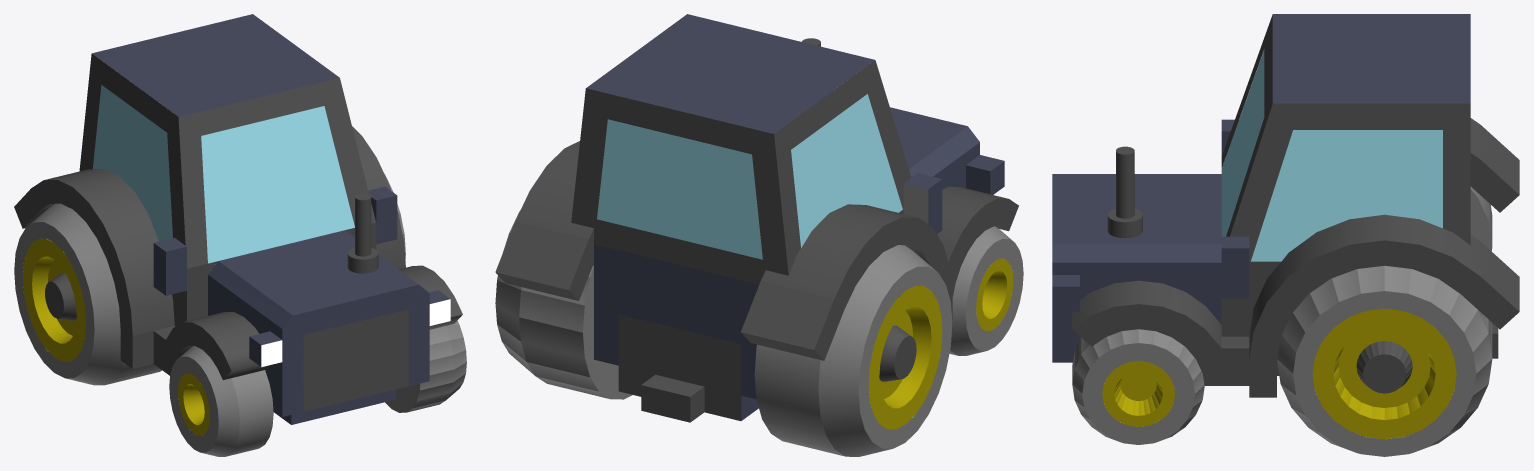
3 renders of one model, left to right at view 1: azimuth 30°, elevation 25°; view 2: azimuth 150°, elevation 25°; view 3: azimuth 270°, elevation 25°, orthographic. The views are drawn at different scales.
Visible parts, largest first — view 1: body.010, skirts, wheel_backRight.010, wheel_frontRight.010, wheel_frontLeft.010; view 2: body.010, skirts, wheel_backRight.010, wheel_backLeft.010, wheel_frontRight.010; view 3: body.010, wheel_backLeft.010, skirts, wheel_frontLeft.010, wheel_backRight.010.
Part boxes in pixels (x1,y1,x2,y2): body.010: [79, 14, 450, 424]; skirts: [14, 126, 462, 380]; wheel_backRight.010: [14, 203, 161, 385]; wheel_frontRight.010: [169, 346, 273, 456]; wheel_frontLeft.010: [385, 320, 466, 412]; body.010: [571, 14, 1004, 422]; skirts: [495, 141, 1018, 360]; wheel_backRight.010: [754, 245, 952, 456]; wheel_backLeft.010: [495, 210, 632, 399]; wheel_frontRight.010: [949, 226, 1023, 355]; body.010: [1052, 14, 1498, 375]; wheel_backLeft.010: [1277, 265, 1492, 456]; skirts: [1072, 118, 1519, 397]; wheel_frontLeft.010: [1072, 329, 1204, 444]; wheel_backRight.010: [1470, 187, 1492, 250].
Bounding box in the file's own units: 1.66 × 1.46 × 1.9.
